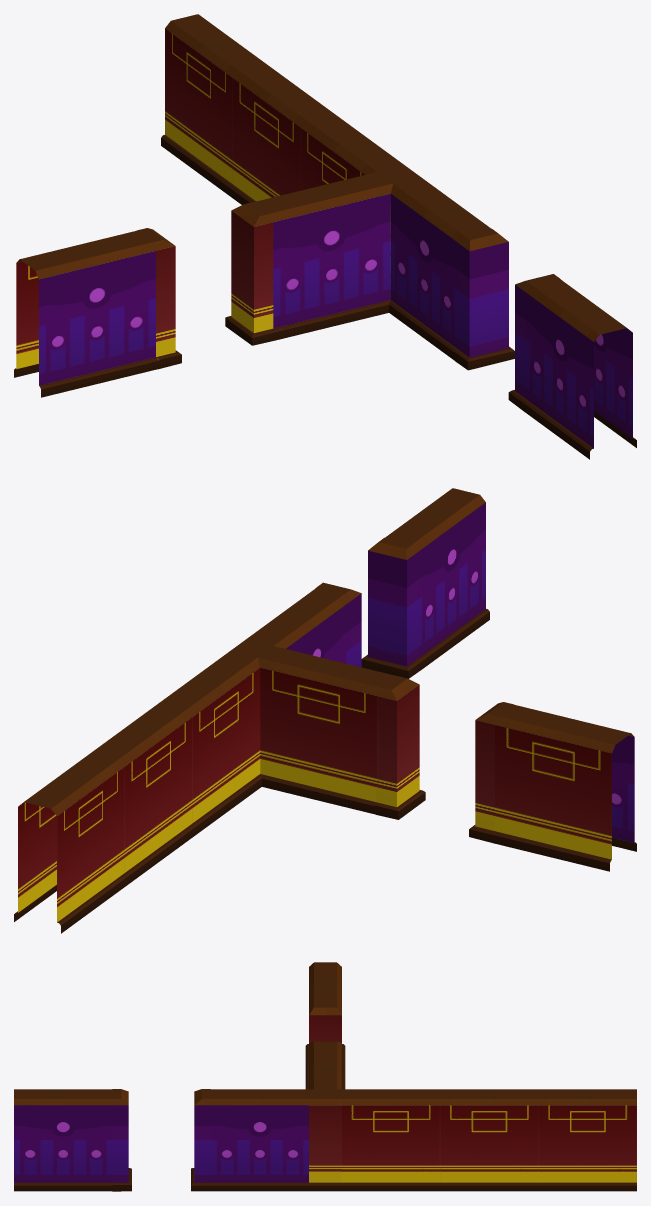
The model's file is Wall_Bedroom_Library_v1.fbx.
3 views of the same model, one above another, from view 1: azimuth 30°, elevation 25°; view 2: azimuth 150°, elevation 25°; view 3: azimuth 270°, elevation 25° (orthographic). The views are drawn at different scales.
Parts seen in each view (by area): view 1: Bedroom_Library; view 2: Bedroom_Library; view 3: Bedroom_Library.
Boxes of the visible parts, x1,y1,x2,y2 form: Bedroom_Library: [14, 14, 636, 459]; Bedroom_Library: [14, 488, 636, 933]; Bedroom_Library: [14, 962, 636, 1191].
Bounding box in the file's own units: 1010 × 300 × 1900.
